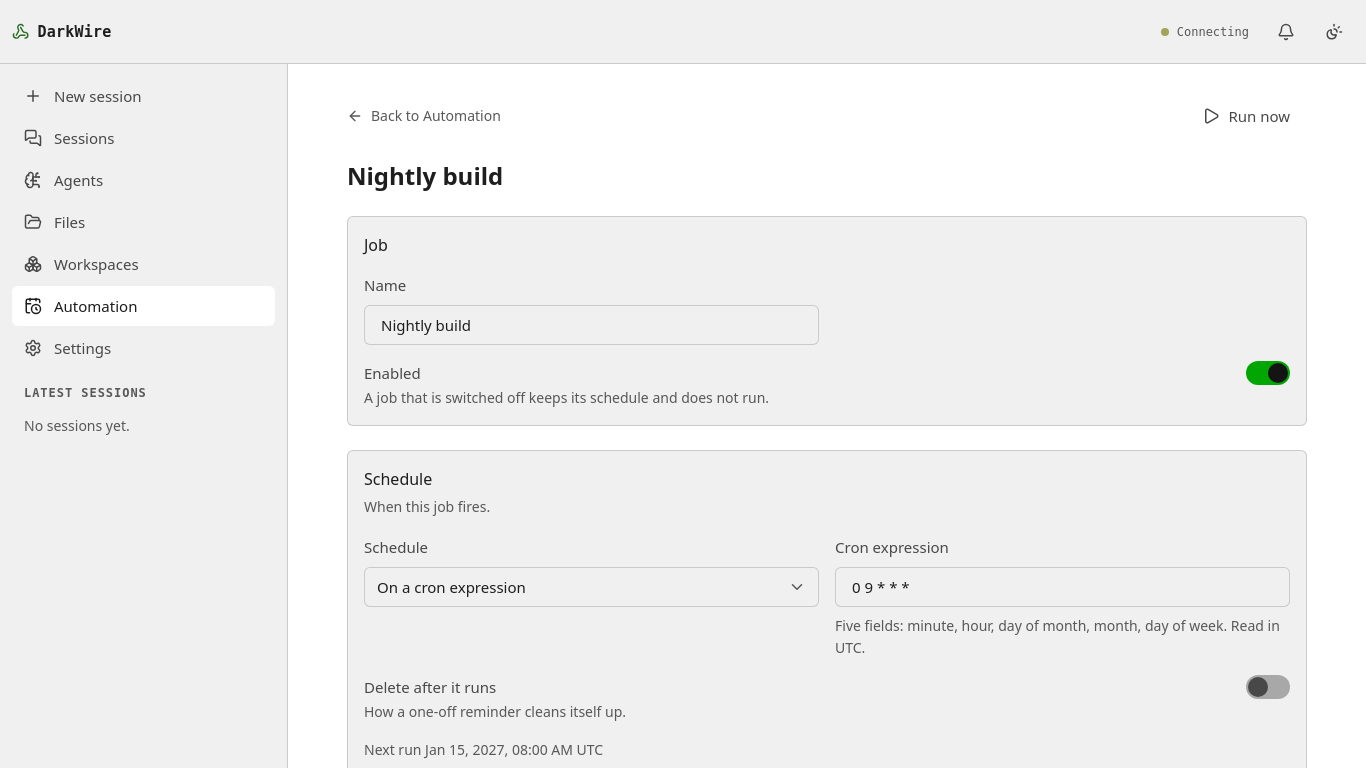
Scenario: the job editor › renders the server′s validation message against the field
Replace the text in the field labelled "Cron expression" with "99 * * * *" at (1062, 587), box [835,567,1290,607]
(page scrolled)
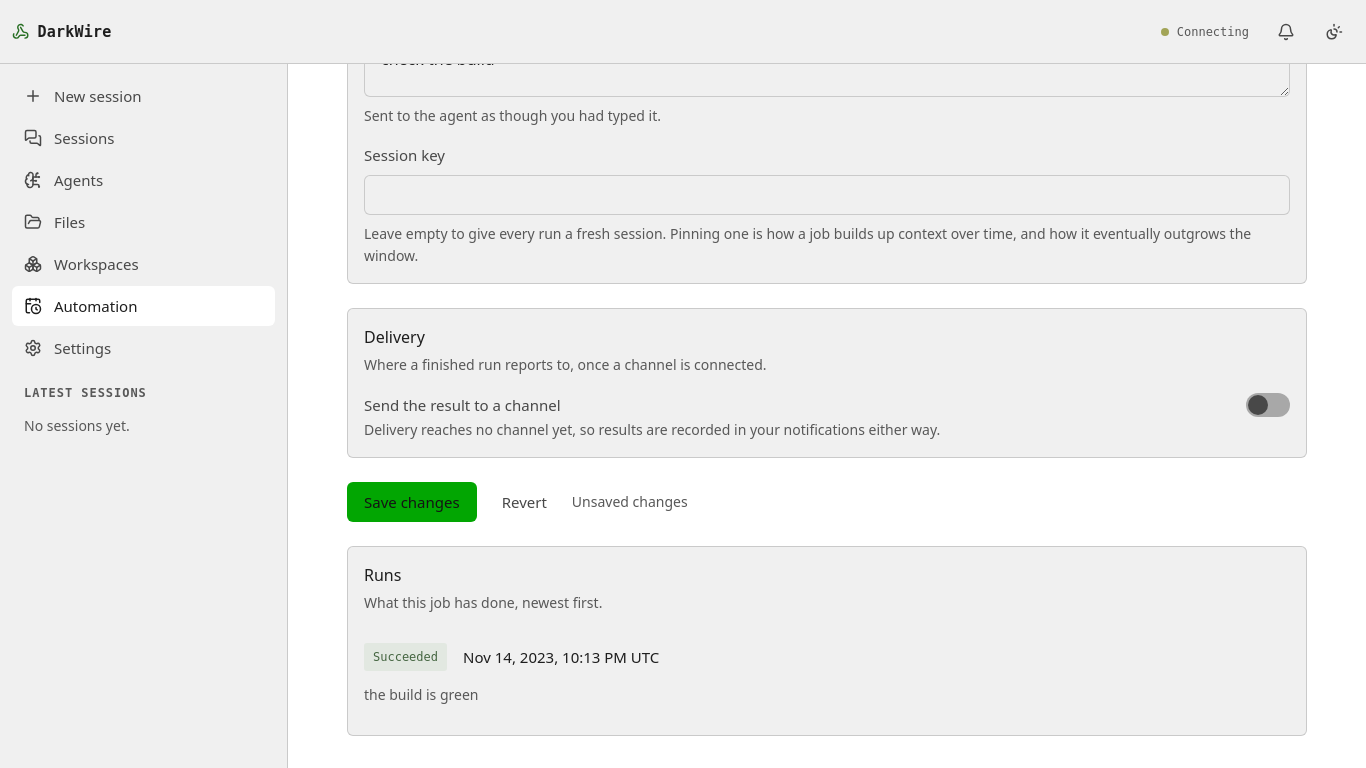
Click the button "Save changes" at (412, 502), box [347,482,477,522]
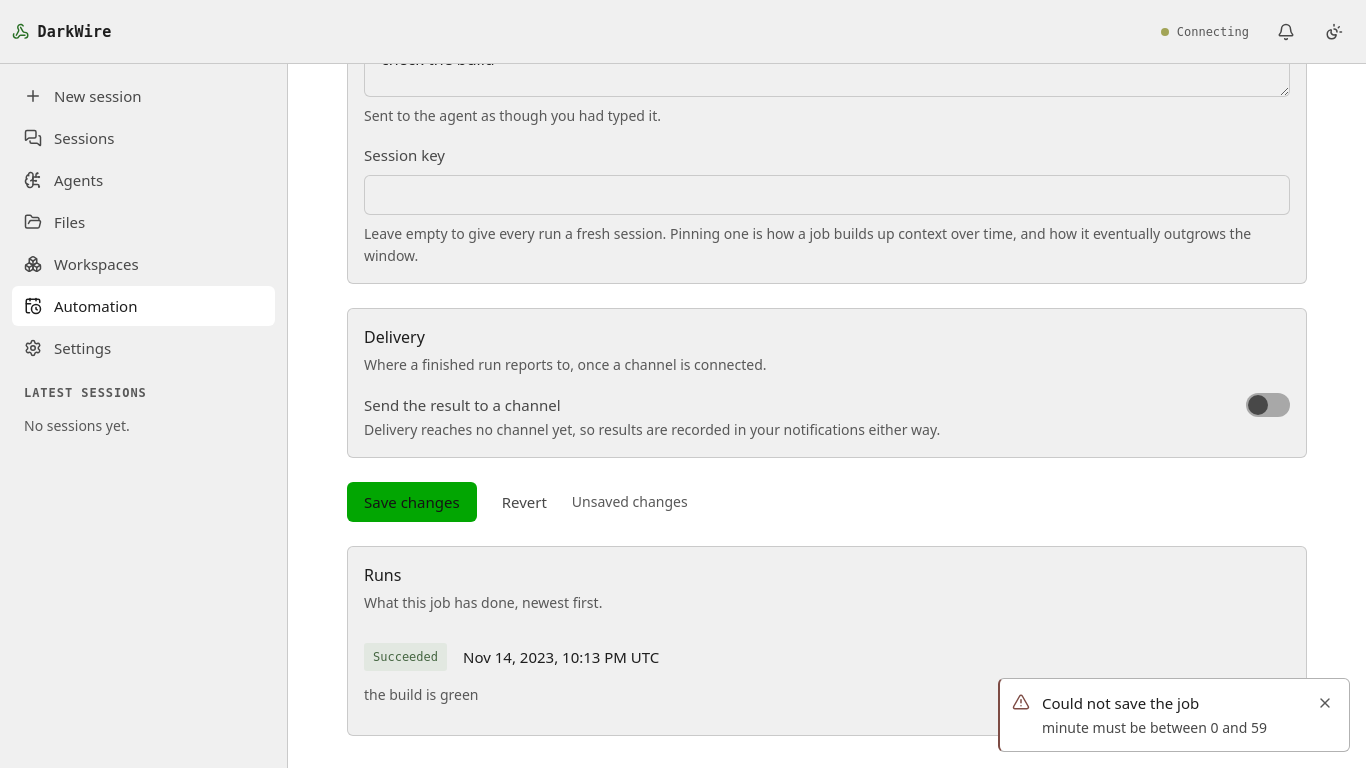
Expected: the text "minute must be between 0 and 59" is shown, [1042,717,1301,739]
